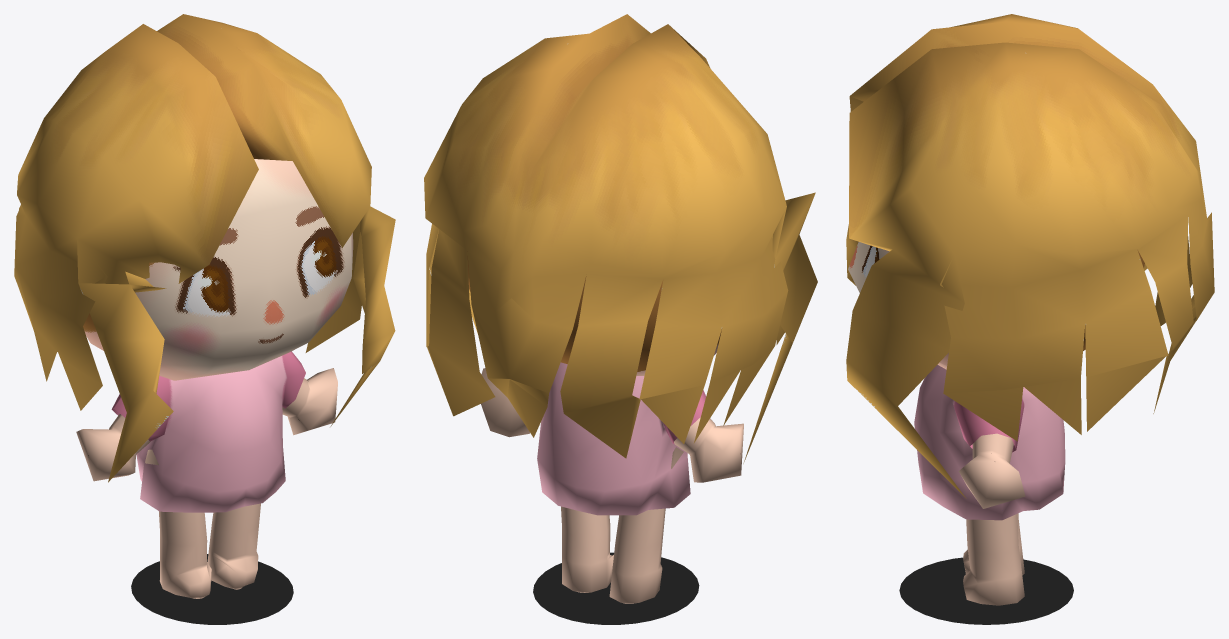
3 renders of one model, left to right at view 1: azimuth 30°, elevation 25°; view 2: azimuth 150°, elevation 25°; view 3: azimuth 270°, elevation 25°, orthographic. The views are drawn at different scales.
Visible parts, largest first — view 1: Roundcube.005, Roundcube, Roundcube.002, Roundcube.001, Roundcube.003; view 2: Roundcube.005, Roundcube.002, Roundcube.001, Roundcube.003, Roundcube; view 3: Roundcube.005, Roundcube.002, Roundcube.001, Roundcube.003, Roundcube.
Boxes of the visible parts, box(x1,y1,x2,y2) form: Roundcube.005: box(14, 14, 395, 482); Roundcube: box(83, 159, 353, 380); Roundcube.002: box(111, 351, 305, 512); Roundcube.001: box(76, 368, 337, 598); Roundcube.003: box(131, 554, 293, 624); Roundcube.005: box(424, 14, 817, 463); Roundcube.002: box(537, 362, 706, 515); Roundcube.001: box(481, 368, 743, 603); Roundcube.003: box(533, 552, 699, 624); Roundcube: box(467, 251, 721, 375); Roundcube.005: box(846, 14, 1214, 498); Roundcube.002: box(914, 365, 1065, 520); Roundcube.001: box(958, 433, 1025, 605); Roundcube.003: box(899, 557, 1073, 624); Roundcube: box(848, 242, 1144, 369).
Size of the model in its own units: 1.59 by 2.65 by 1.59.
Materials: 2 (1 with a texture image).
